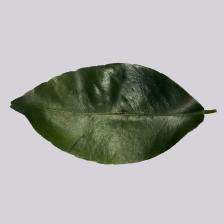healthy: (16, 67, 211, 173)
